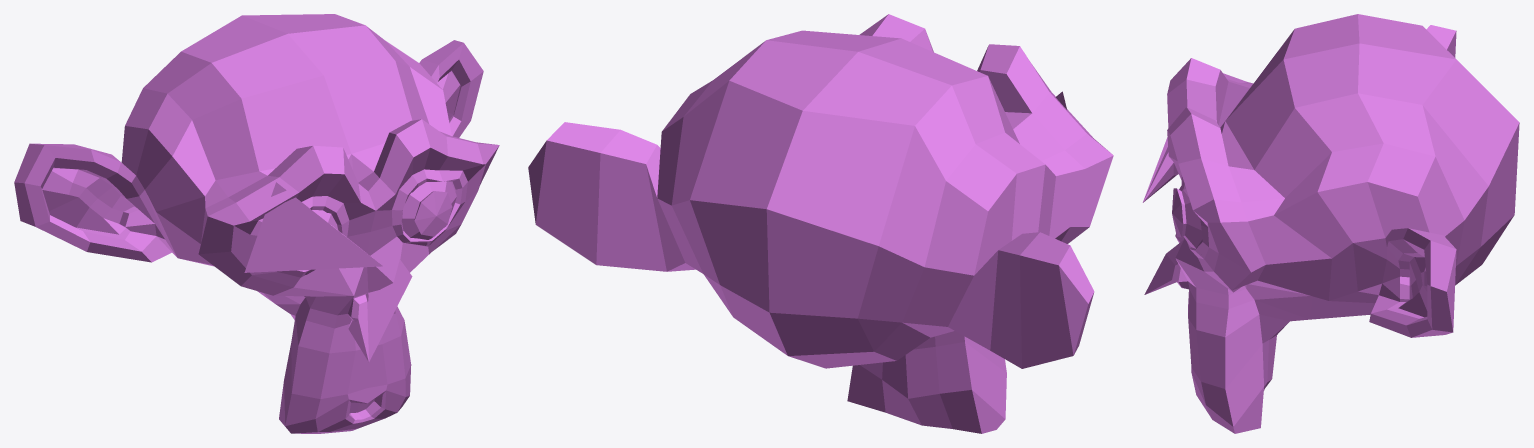
File: cyber space place.glb
3 renders of one model, left to right at view 1: azimuth 30°, elevation 25°; view 2: azimuth 150°, elevation 25°; view 3: azimuth 270°, elevation 25°, orthographic. The views are drawn at different scales.
Visible parts, largest first — view 1: Suzanne; view 2: Suzanne; view 3: Suzanne.
Part boxes in pixels (bbox=[...]): Suzanne: bbox=[14, 14, 499, 433]; Suzanne: bbox=[528, 14, 1113, 433]; Suzanne: bbox=[1142, 14, 1519, 433].
Bounding box in the file's own units: 2.73 × 1.97 × 1.82.
